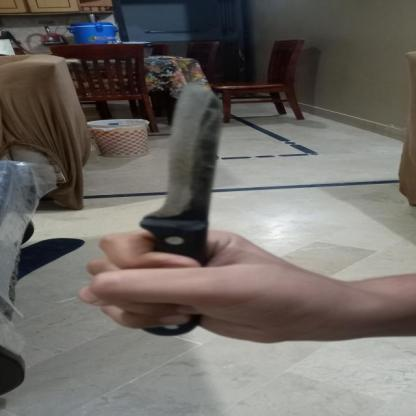Knife: (128, 79, 233, 340)
